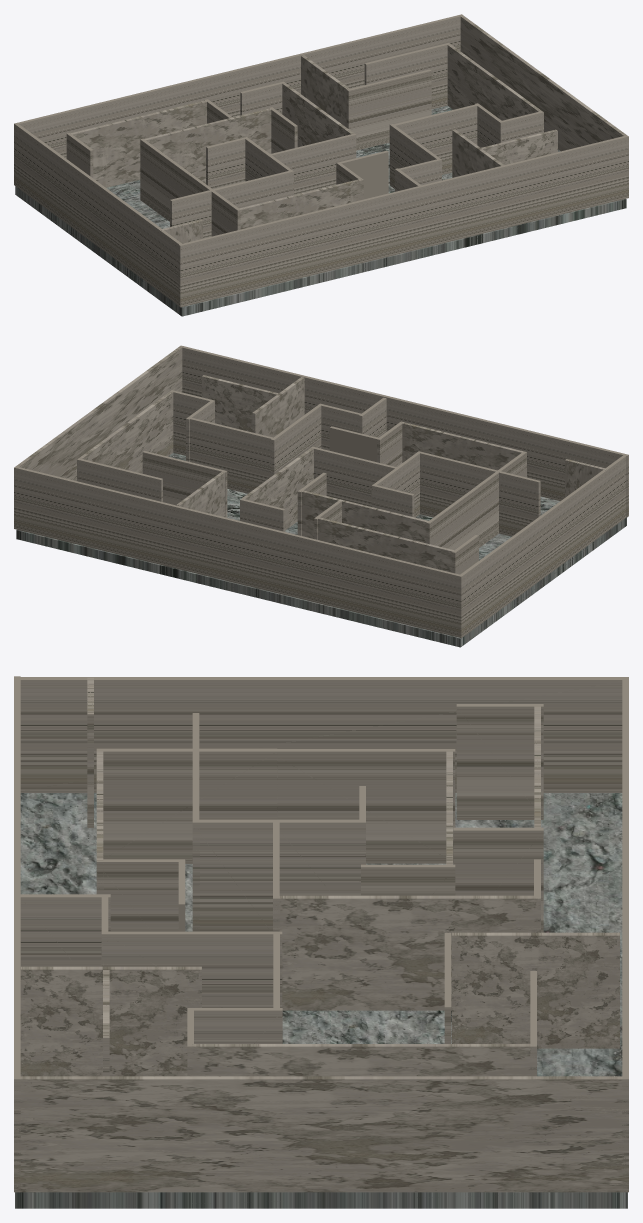
File: maze_final.fbx
The picture shows the model from 3 angles, top to bottom: view 1: azimuth 30°, elevation 25°; view 2: azimuth 150°, elevation 25°; view 3: azimuth 270°, elevation 25°; orthographic projection. The views are drawn at different scales.
Visible parts, largest first — view 1: Plane.002, Plane.004, Plane.005, Plane.001, Plane.003, Plane.007, Plane.022, Plane.009, Plane.024, Plane.036, Plane.018, Plane.025 (+20 smaller); view 2: Plane.004, Plane.002, Plane.005, Plane.001, Plane.003, Plane.025, Plane.024, Plane.007, Plane.013, Plane.036, Plane.009, Plane.018 (+23 smaller); view 3: Plane.003, Plane.005, Plane.001, Plane.019, Plane.021, Plane.029, Plane.012, Plane.011, Plane.024, Plane.006, Plane.030, Plane.014 (+17 smaller).
Part boxes in pixels (x1,y1,x2,y2): Plane.002: (178,135,628,307); Plane.004: (14,14,463,185); Plane.005: (14,123,183,305); Plane.001: (15,105,626,316); Plane.003: (460,15,628,151); Plane.007: (71,100,206,187); Plane.022: (346,69,431,150); Plane.009: (144,108,271,183); Plane.024: (447,44,543,131); Plane.036: (237,178,363,229); Plane.018: (270,133,356,194); Plane.025: (394,104,477,174); Plane.004: (14,466,463,637); Plane.002: (179,345,628,517); Plane.005: (458,454,627,637); Plane.001: (16,452,626,647); Plane.003: (16,347,182,480); Plane.025: (190,418,272,493); Plane.024: (79,390,173,473); Plane.007: (318,517,453,572); Plane.013: (458,461,540,536); Plane.036: (399,421,526,477); Plane.009: (301,490,428,543); Plane.018: (311,446,396,506); Plane.003: (14,1076,628,1192); Plane.005: (14,677,628,792); Plane.001: (15,793,627,1208); Plane.019: (273,895,540,1010); Plane.021: (452,932,619,1048); Plane.029: (20,966,201,1076); Plane.012: (96,748,277,863); Plane.011: (277,749,455,863); Plane.024: (187,1044,536,1076); Plane.006: (456,704,543,819); Plane.030: (107,931,282,1007); Plane.014: (192,819,272,931).
Bounding box in the file's own units: 424 × 64.42 × 273.
